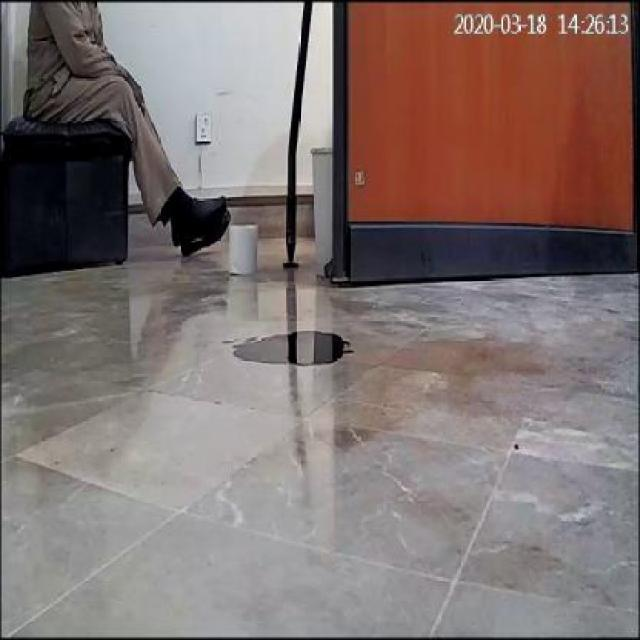spill: (229, 323, 349, 365)
